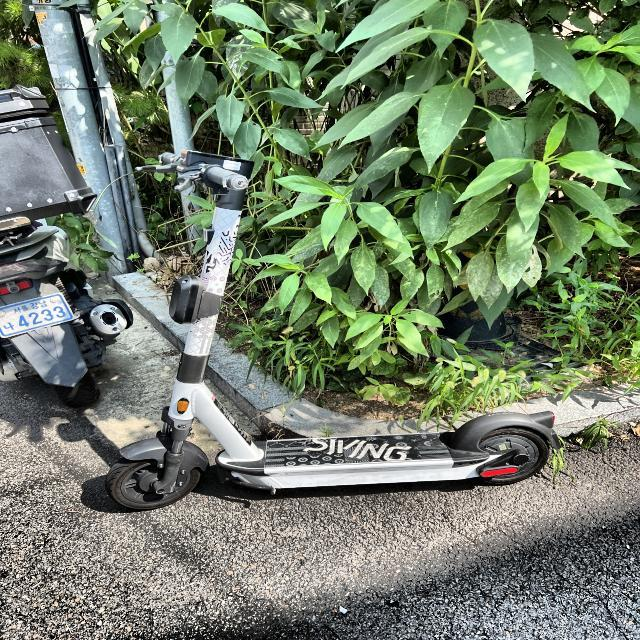bike: (105, 148, 559, 512), (0, 97, 133, 414)
